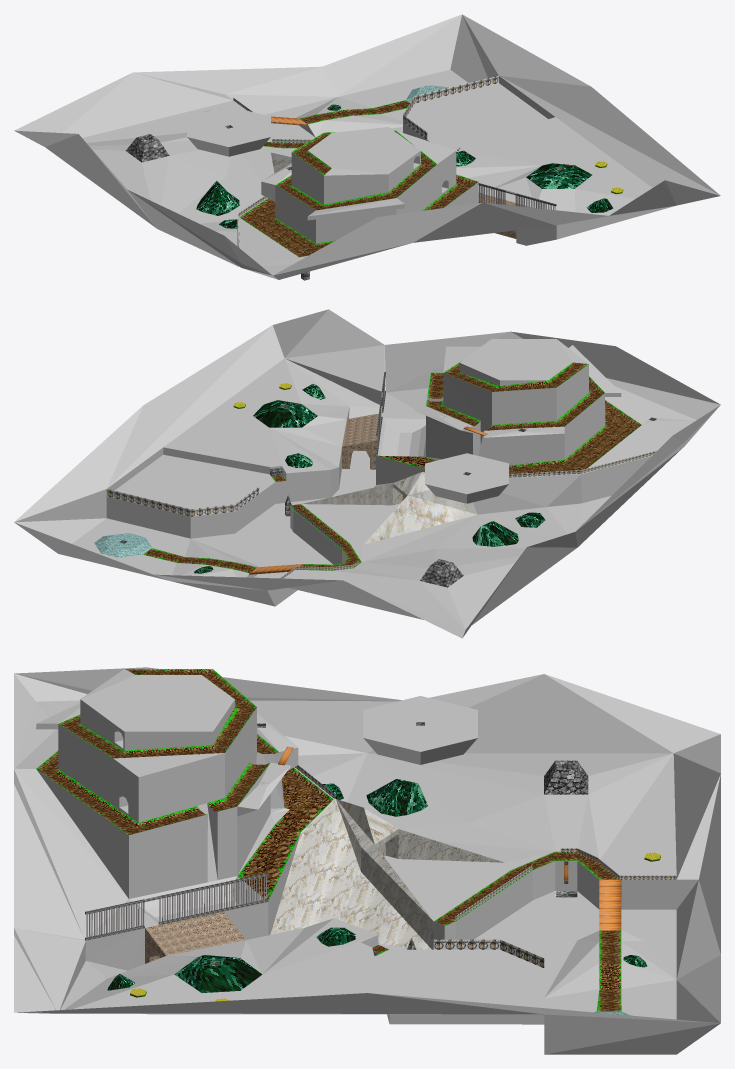
File: BobOmbBattlefield.fbx
3 renders of one model, top to bottom at view 1: azimuth 30°, elevation 25°; view 2: azimuth 150°, elevation 25°; view 3: azimuth 270°, elevation 25°, orthographic. The views are drawn at different scales.
Parts seen in each view (by area): view 1: Shape_IndexedFaceSet.040, Shape_IndexedFaceSet.021, Shape_IndexedFaceSet.008, Shape_IndexedFaceSet.007, Shape_IndexedFaceSet.035, Shape_IndexedFaceSet.005, Shape_IndexedFaceSet.001, Shape_IndexedFaceSet.039, Shape_IndexedFaceSet.032, Shape_IndexedFaceSet.002; view 2: Shape_IndexedFaceSet.040, Shape_IndexedFaceSet.021, Shape_IndexedFaceSet.008, Shape_IndexedFaceSet.033, Shape_IndexedFaceSet.007, Shape_IndexedFaceSet.035, Shape_IndexedFaceSet.001, Shape_IndexedFaceSet.039, Shape_IndexedFaceSet.005, Shape_IndexedFaceSet.034, Shape_IndexedFaceSet.037, Shape_IndexedFaceSet.032 (+1 smaller); view 3: Shape_IndexedFaceSet.040, Shape_IndexedFaceSet.021, Shape_IndexedFaceSet.033, Shape_IndexedFaceSet.008, Shape_IndexedFaceSet.007, Shape_IndexedFaceSet.035, Shape_IndexedFaceSet.039, Shape_IndexedFaceSet.002, Shape_IndexedFaceSet.034, Shape_IndexedFaceSet.001, Shape_IndexedFaceSet.036, Shape_IndexedFaceSet.032 (+2 smaller).
Part boxes in pixels (<box>): Shape_IndexedFaceSet.040: <box>14,14,720,279</box>; Shape_IndexedFaceSet.021: <box>187,76,675,245</box>; Shape_IndexedFaceSet.008: <box>262,127,455,216</box>; Shape_IndexedFaceSet.007: <box>239,130,478,257</box>; Shape_IndexedFaceSet.035: <box>196,104,613,228</box>; Shape_IndexedFaceSet.005: <box>244,200,328,256</box>; Shape_IndexedFaceSet.001: <box>233,75,498,247</box>; Shape_IndexedFaceSet.039: <box>263,100,409,148</box>; Shape_IndexedFaceSet.032: <box>125,134,459,162</box>; Shape_IndexedFaceSet.002: <box>479,185,555,209</box>; Shape_IndexedFaceSet.040: <box>14,309,720,638</box>; Shape_IndexedFaceSet.021: <box>106,359,621,606</box>; Shape_IndexedFaceSet.008: <box>414,339,620,460</box>; Shape_IndexedFaceSet.033: <box>302,414,477,544</box>; Shape_IndexedFaceSet.007: <box>376,361,641,469</box>; Shape_IndexedFaceSet.035: <box>194,384,545,573</box>; Shape_IndexedFaceSet.001: <box>106,450,656,578</box>; Shape_IndexedFaceSet.039: <box>143,475,361,573</box>; Shape_IndexedFaceSet.005: <box>509,404,636,473</box>; Shape_IndexedFaceSet.034: <box>342,413,381,469</box>; Shape_IndexedFaceSet.037: <box>94,533,151,557</box>; Shape_IndexedFaceSet.032: <box>270,467,463,587</box>; Shape_IndexedFaceSet.040: <box>14,667,720,1054</box>; Shape_IndexedFaceSet.021: <box>36,699,698,1024</box>; Shape_IndexedFaceSet.033: <box>259,781,504,949</box>; Shape_IndexedFaceSet.008: <box>37,669,297,874</box>; Shape_IndexedFaceSet.007: <box>36,669,333,900</box>; Shape_IndexedFaceSet.035: <box>107,779,647,992</box>; Shape_IndexedFaceSet.039: <box>372,851,621,1011</box>; Shape_IndexedFaceSet.002: <box>86,876,267,937</box>; Shape_IndexedFaceSet.034: <box>145,911,245,963</box>; Shape_IndexedFaceSet.001: <box>295,765,676,967</box>; Shape_IndexedFaceSet.036: <box>85,722,577,964</box>; Shape_IndexedFaceSet.032: <box>372,760,588,955</box>.
Size of the model in its own units: 1639 by 470 by 1638.
